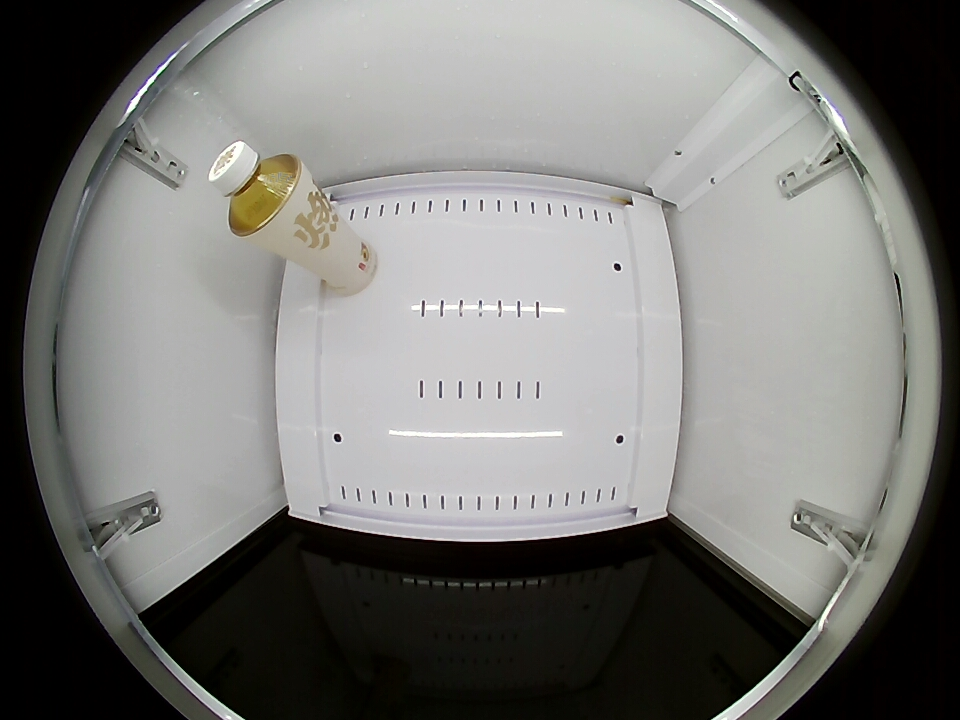rancha-2: (209, 141, 306, 239)
